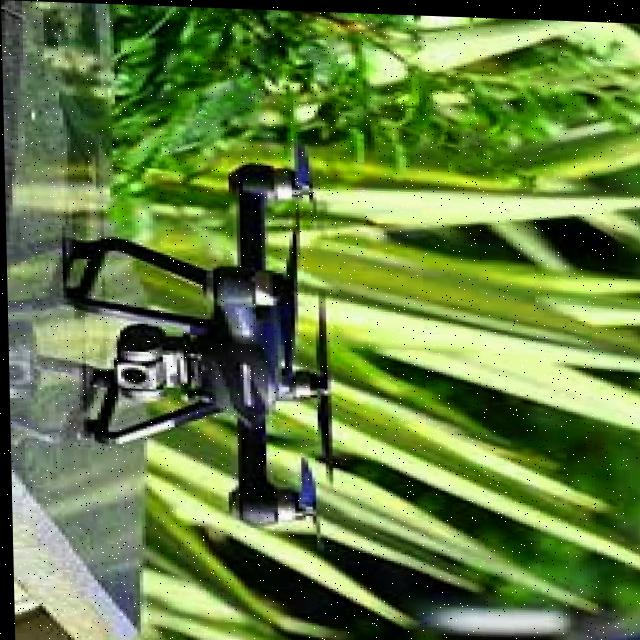drone: (45, 120, 367, 559)
